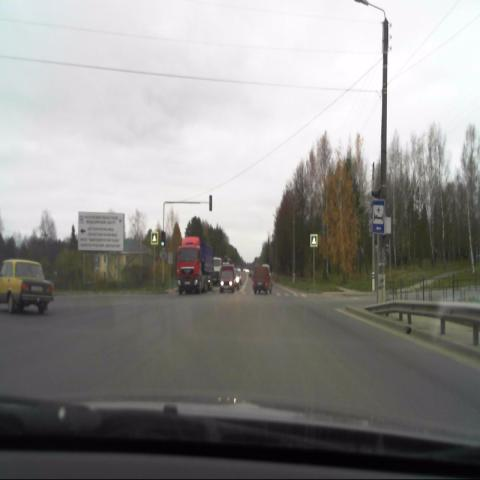7_2: (372, 200, 384, 235)
